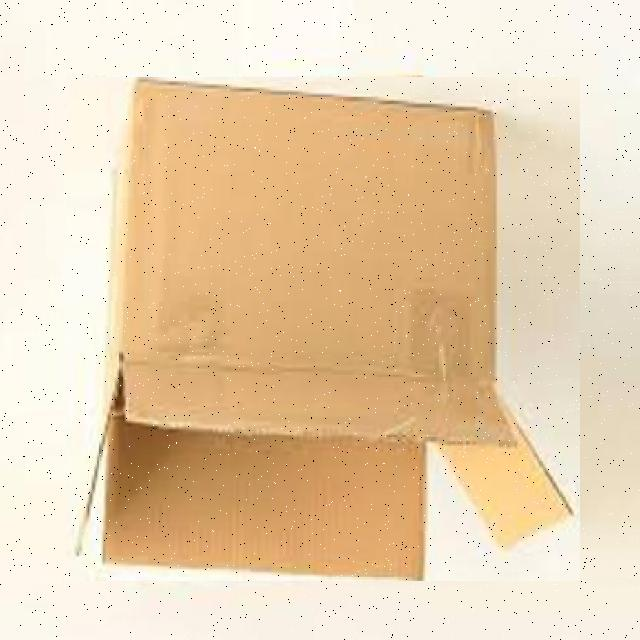defect: (66, 77, 580, 581)
